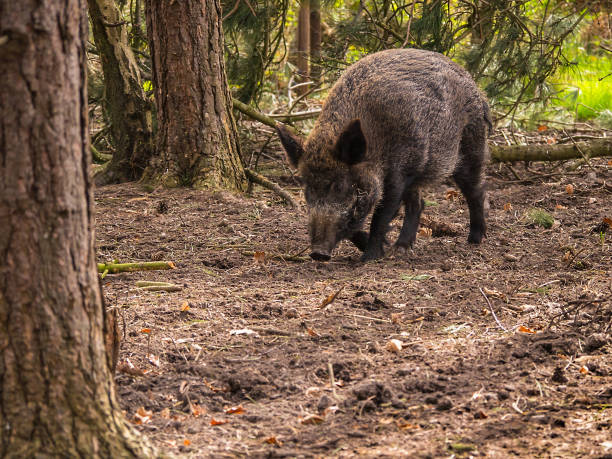pig: (276, 47, 551, 249)
